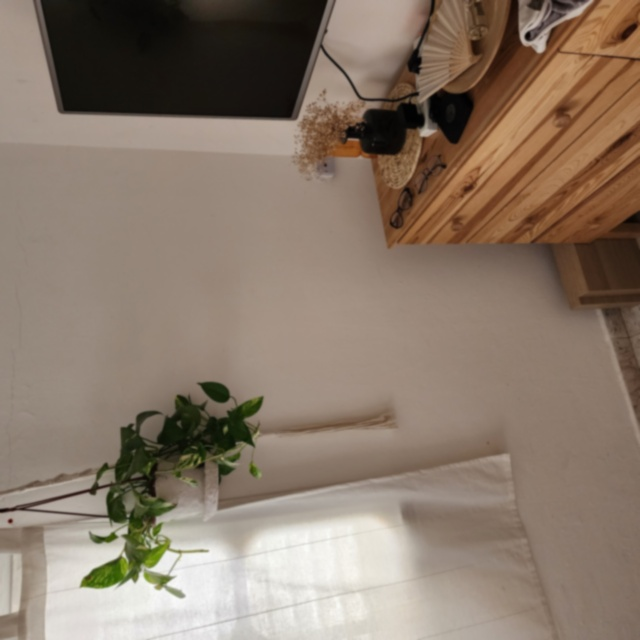glasses: (411, 152, 451, 196), (380, 186, 415, 234)
